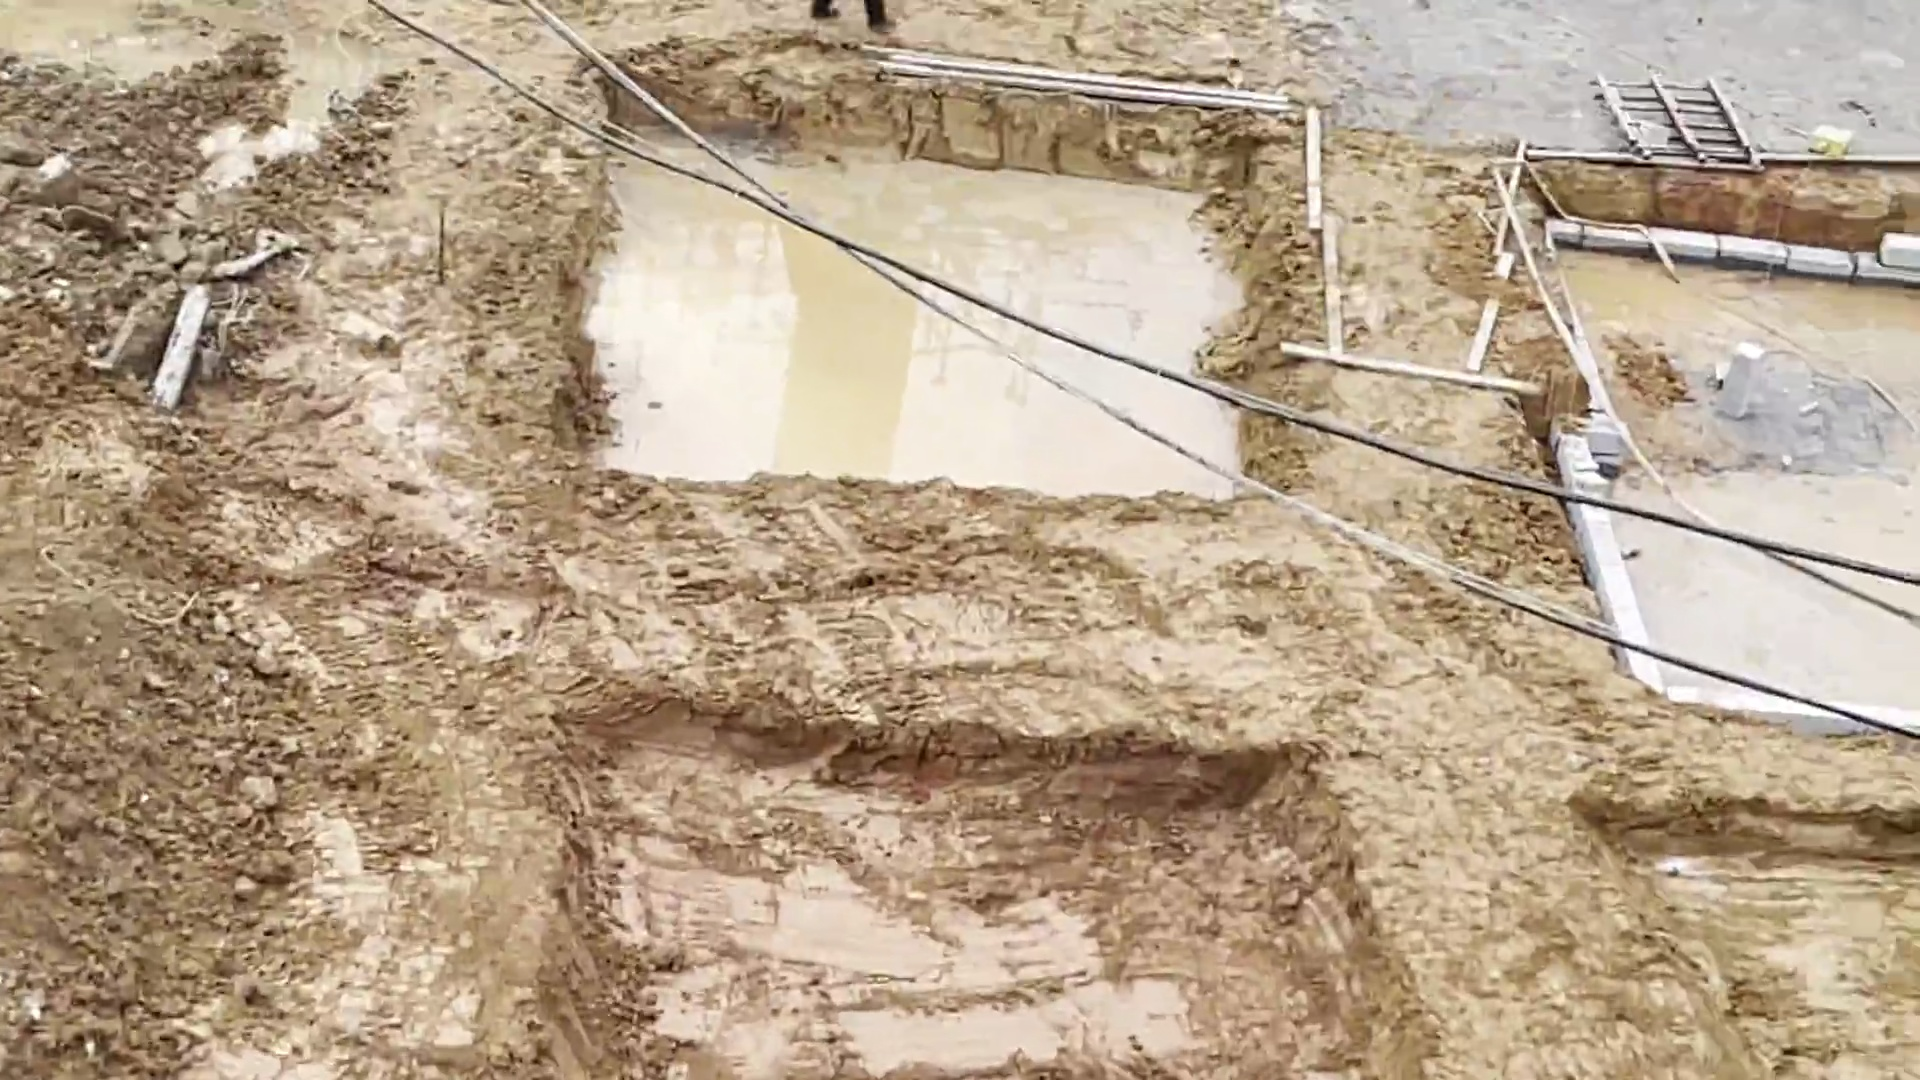brick: (1561, 440, 1659, 687), (1549, 218, 1920, 281), (1658, 675, 1913, 733)
